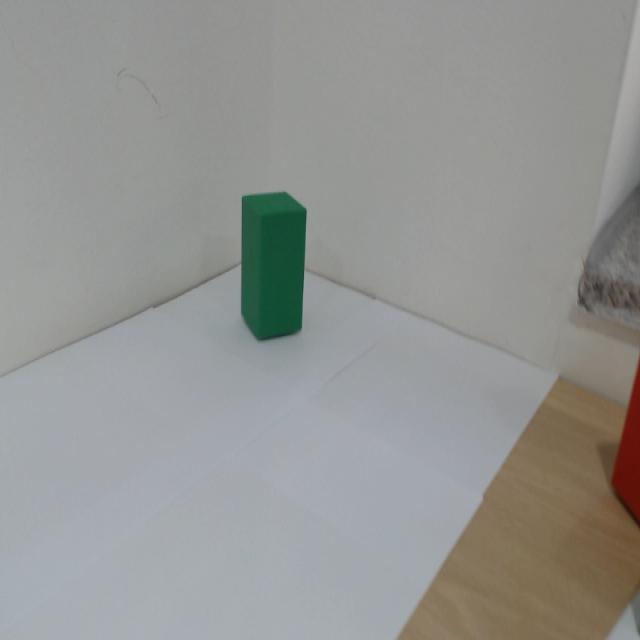cube: (205, 131, 338, 385)
